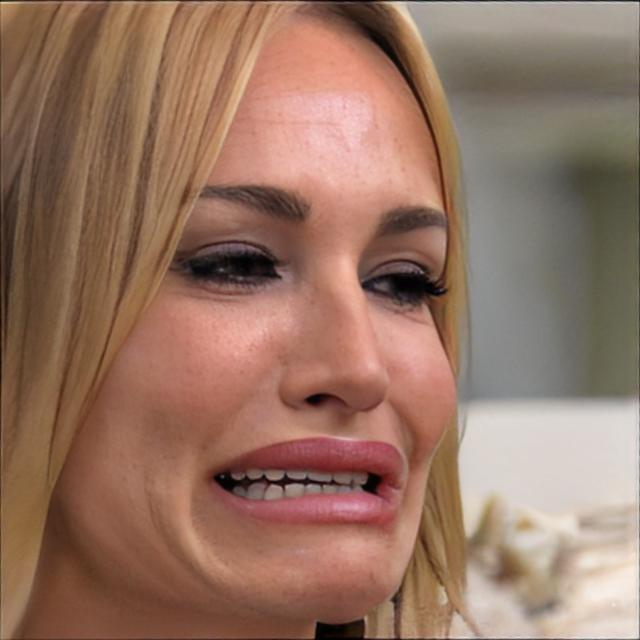sad: (49, 0, 454, 626)
